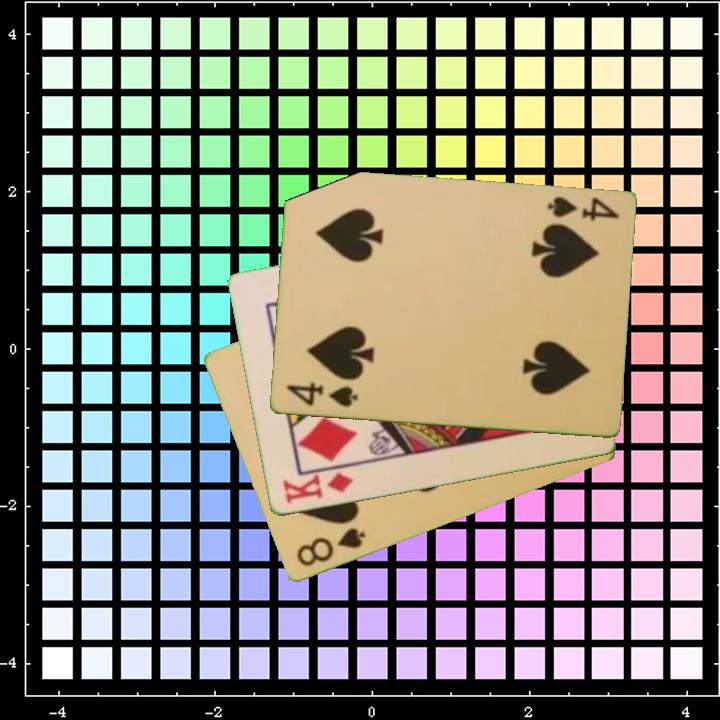4s: (282, 379, 361, 411), (544, 193, 622, 224)
8s: (292, 524, 369, 570)
Kd: (279, 469, 356, 508)
